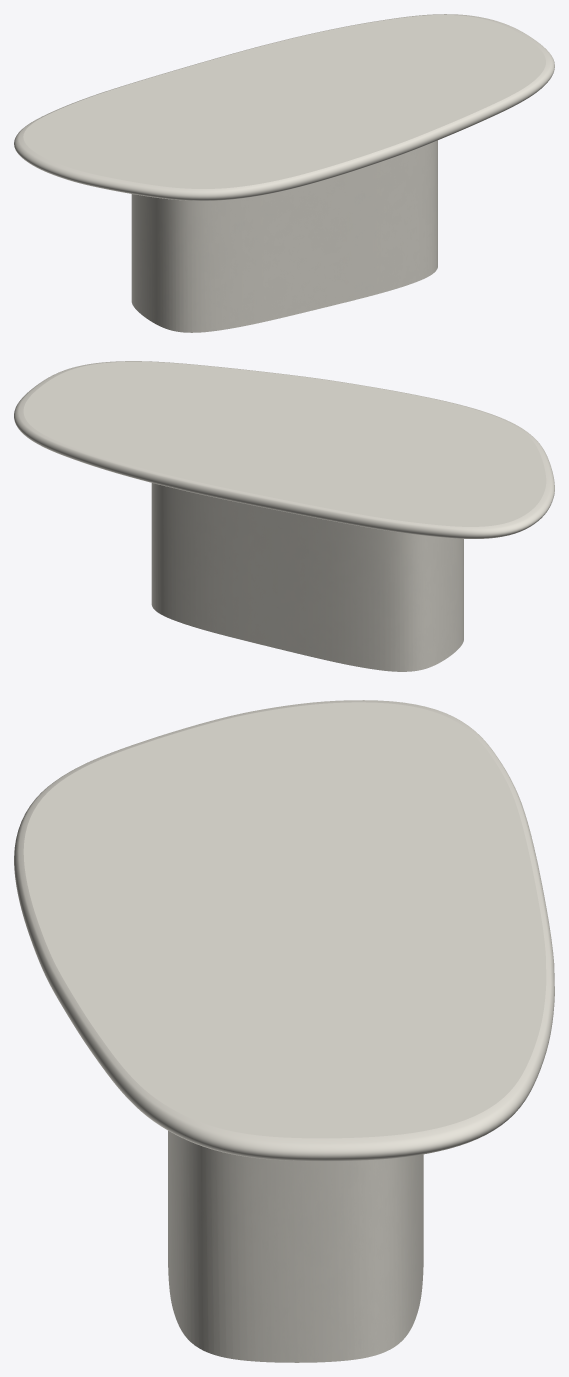
Rendered from pale_leaf2_round_fixed.glb.
3 views of the same model, one above another, from view 1: azimuth 30°, elevation 25°; view 2: azimuth 150°, elevation 25°; view 3: azimuth 270°, elevation 25° (orthographic). The views are drawn at different scales.
Visible parts, largest first — view 1: round_leaf2, fixed; view 2: round_leaf2, fixed; view 3: round_leaf2, fixed.
Part boxes in pixels (bbox=[...]): round_leaf2: bbox=[14, 14, 554, 200]; fixed: bbox=[131, 140, 437, 332]; round_leaf2: bbox=[14, 361, 554, 538]; fixed: bbox=[151, 483, 463, 671]; round_leaf2: bbox=[14, 700, 554, 1161]; fixed: bbox=[168, 1131, 423, 1362].
Size of the model in its own units: 7.5 by 2.52 by 3.8.
Materials: 1 (1 with a texture image).
